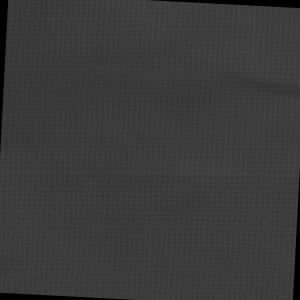Wrinkle: (215, 64, 300, 109)
